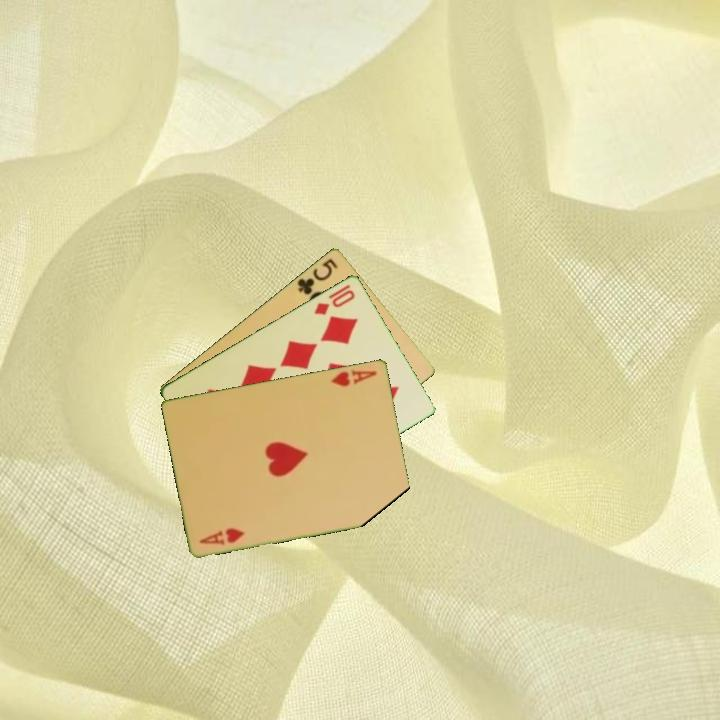10d: (310, 286, 358, 318)
5c: (293, 254, 340, 298)
Ah: (328, 366, 380, 389), (196, 524, 247, 547)
